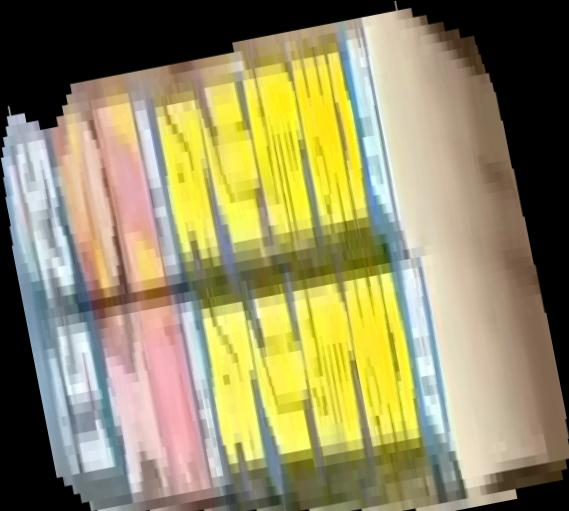flat: (1, 1, 569, 511)
